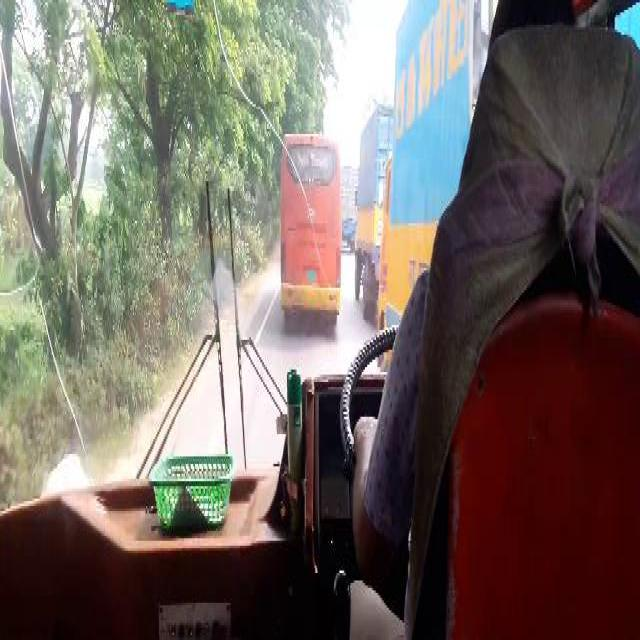vehicle: (377, 4, 473, 356), (280, 132, 336, 321), (355, 109, 386, 315), (343, 162, 360, 247)
